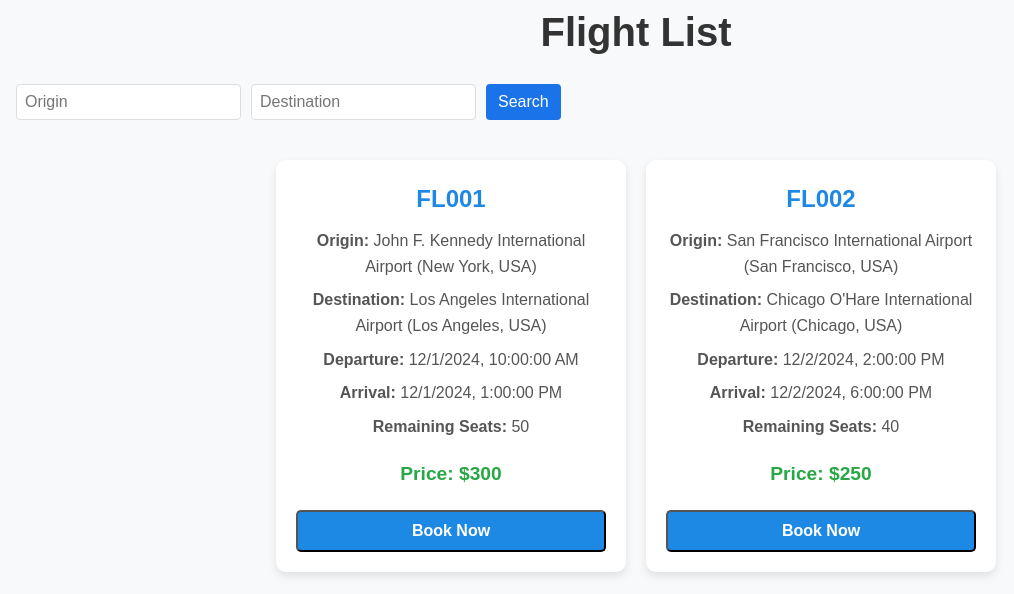
Test: Flight Booking App › search filters flights
Expected: the heading "FL001" is shown, [416,185,486,212]
Type "New York" into the field with placeholder "Origin" at (128, 102), box [16,84,241,120]
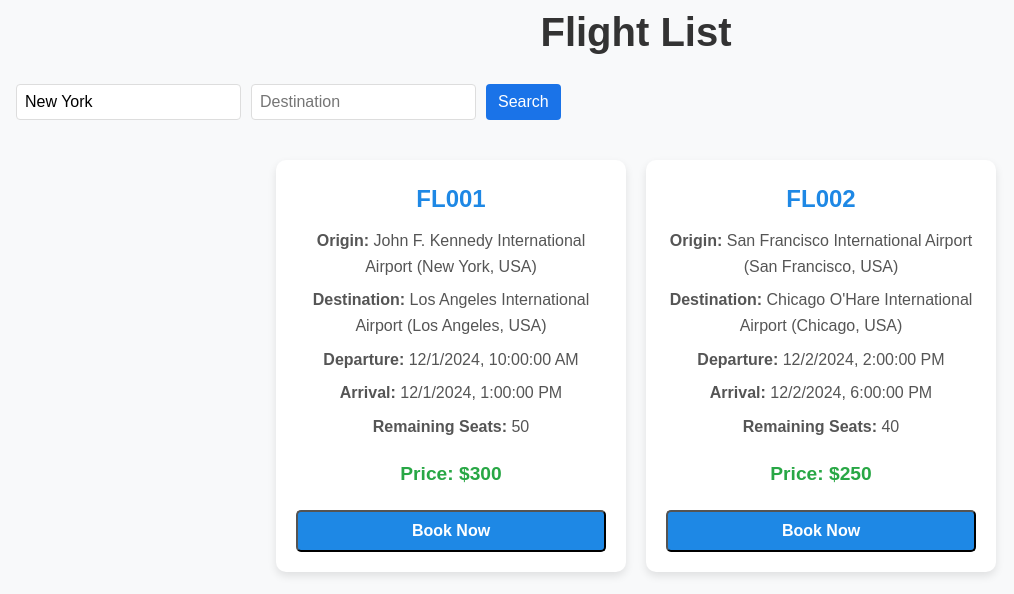
Type "Los Angeles" into the field with placeholder "Destination" at (364, 102), box [251,84,476,120]
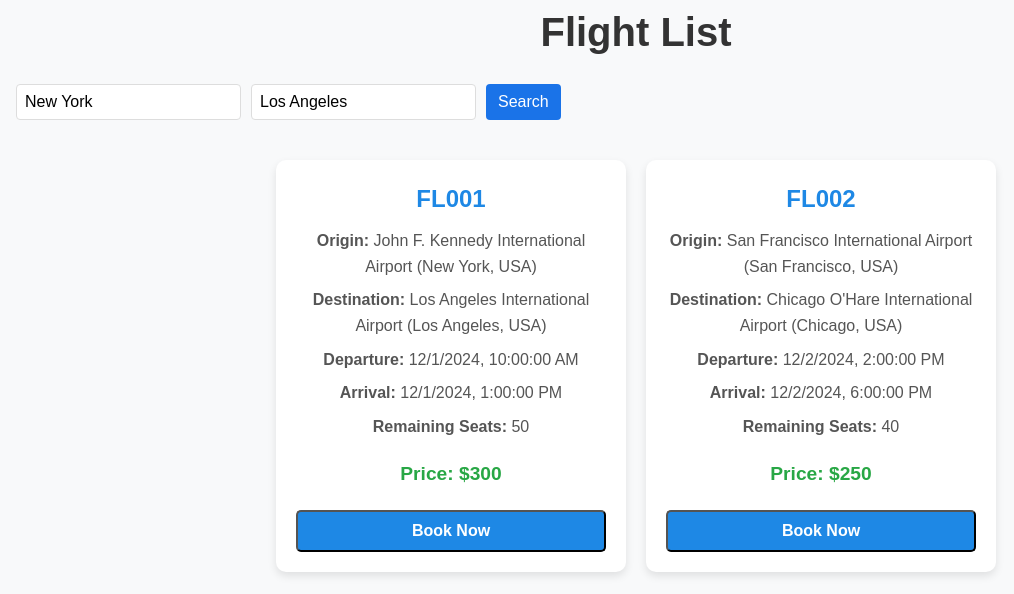
Click the button "Search" at (523, 102), box [486,84,561,120]
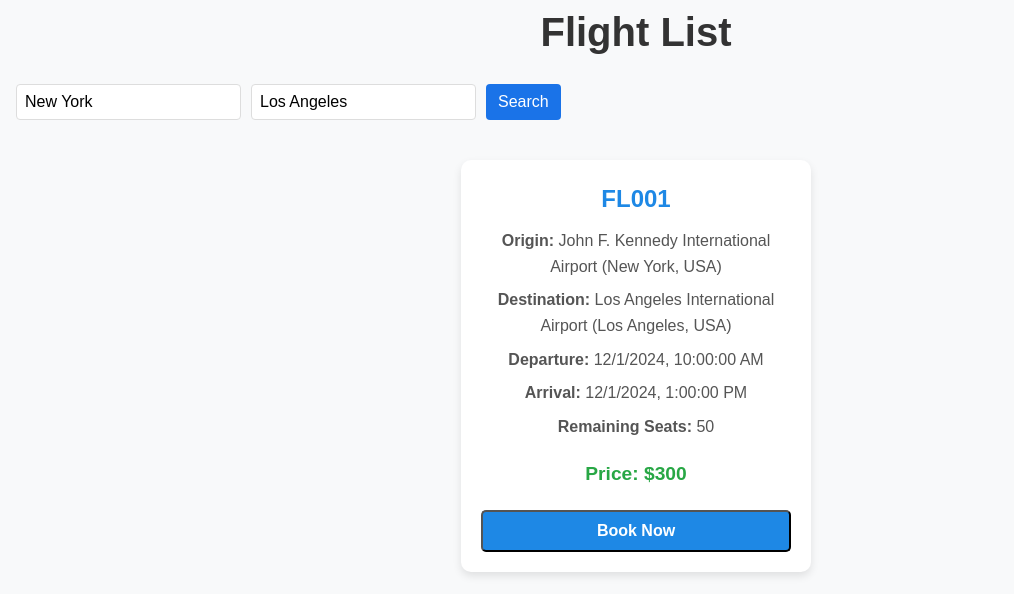
Expected: the heading "FL001" is shown, [601,185,671,212]
Expected: the heading "FL002" is gone
